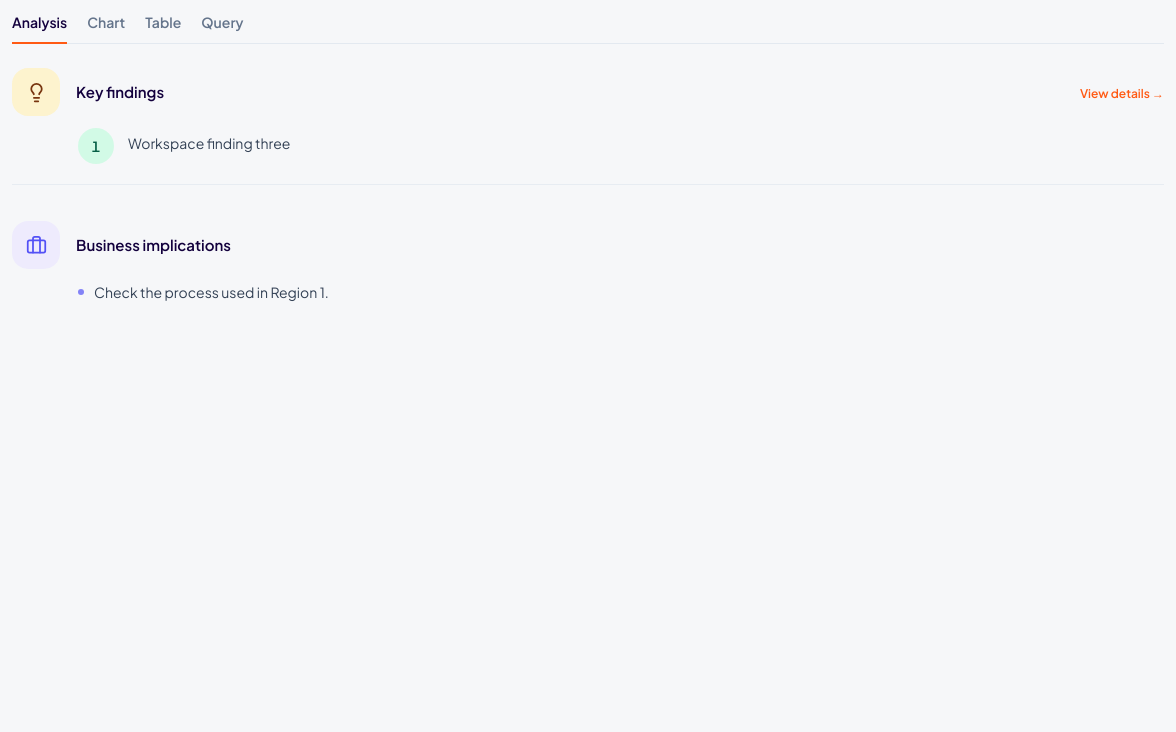
Test: Analysis workspace summary › puts the steps of an agent answer in the Query tab, numbered once, with no separate Checks tab
Click the tab "Query" at x=222, y=28, box [201,12,243,44]
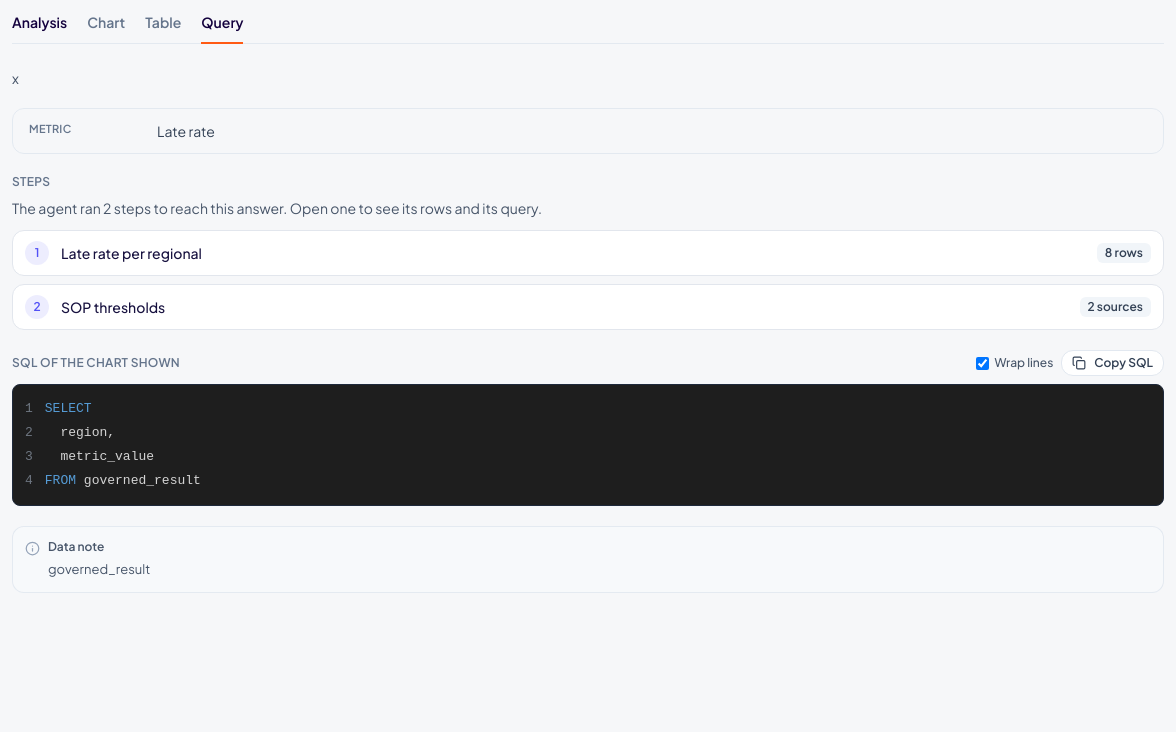
expect the element with test id "query-steps" shows "Late rate per regional": met, box [13,231,1163,275]
expect the element with test id "query-steps" shows "The agent ran 2 steps": met, box [12,174,1164,330]
expect the text "SQL of the chart shown" is shown: met, box [12,355,180,371]
